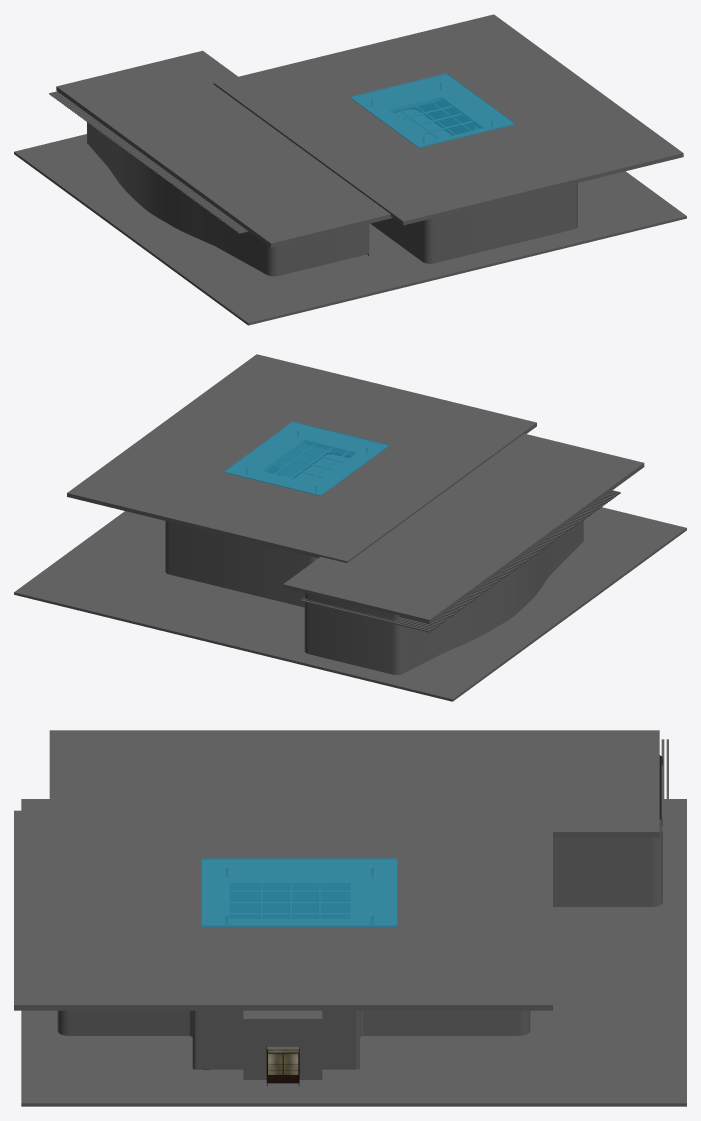
The model's file is gallery.fbx.
The picture shows the model from 3 angles, top to bottom: view 1: azimuth 30°, elevation 25°; view 2: azimuth 150°, elevation 25°; view 3: azimuth 270°, elevation 25°; orthographic projection. The views are drawn at different scales.
Parts seen in each view (by area): view 1: Top, floor, wall, glass, top_2; view 2: Top, floor, wall, glass, top_2; view 3: Top, floor, wall, glass, door, top_2.
Boxes of the visible parts, left/top/right/bottom form: Top: left=56, top=14, right=683, bottom=247; floor: left=14, top=109, right=686, bottom=325; wall: left=87, top=101, right=577, bottom=276; glass: left=349, top=73, right=515, bottom=147; top_2: left=49, top=91, right=248, bottom=233; Top: left=67, top=354, right=644, bottom=623; floor: left=14, top=454, right=686, bottom=701; wall: left=165, top=444, right=583, bottom=674; glass: left=223, top=421, right=389, bottom=496; top_2: left=300, top=490, right=620, bottom=632; Top: left=14, top=730, right=659, bottom=1010; floor: left=21, top=799, right=686, bottom=1106; wall: left=57, top=755, right=662, bottom=1085; glass: left=201, top=858, right=397, bottom=926; door: left=266, top=1046, right=299, bottom=1083; top_2: left=661, top=739, right=668, bottom=830.
Size of the model in its own units: 4900 by 804 by 4581.
